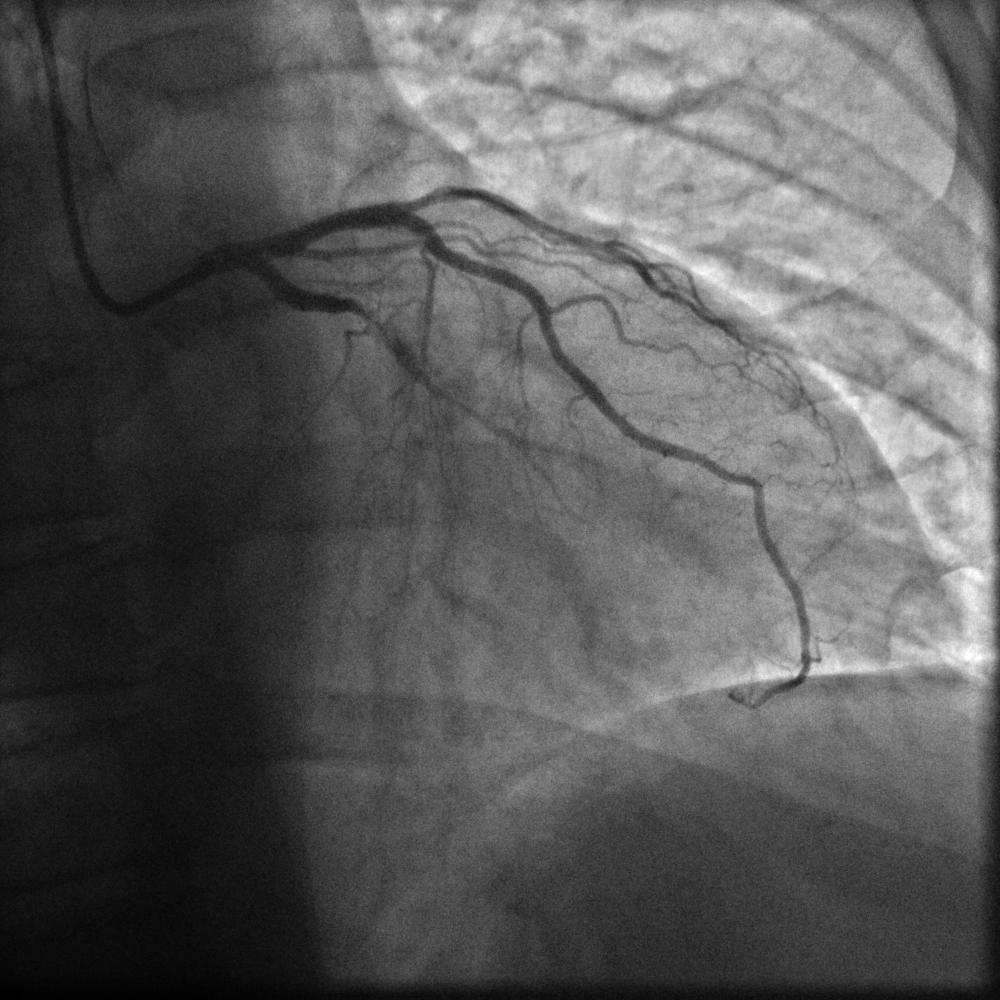Stenosis: (344, 299, 397, 353)
